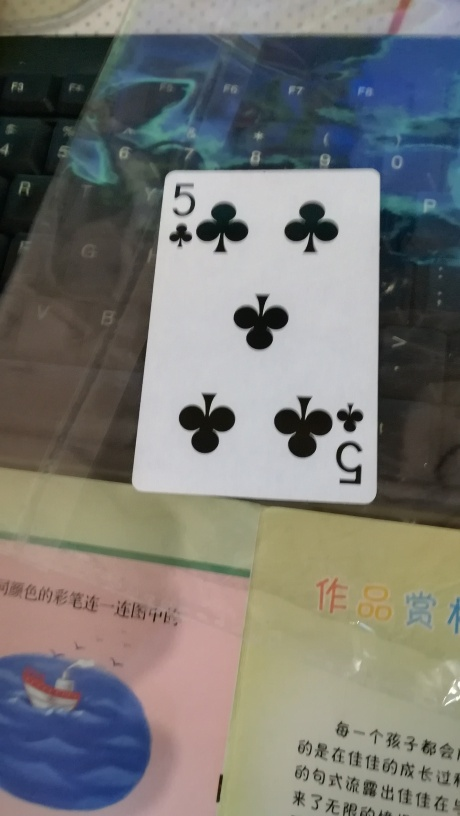mh 5: (134, 167, 379, 507)
